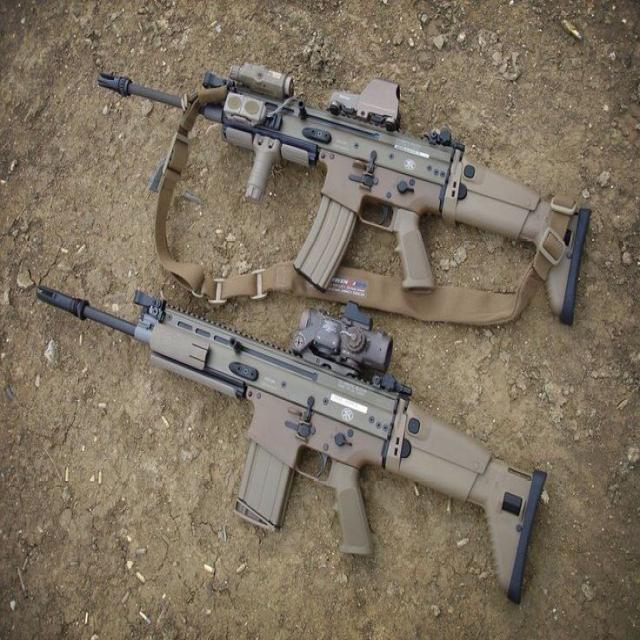Gun: (30, 271, 552, 611), (80, 39, 598, 336)
